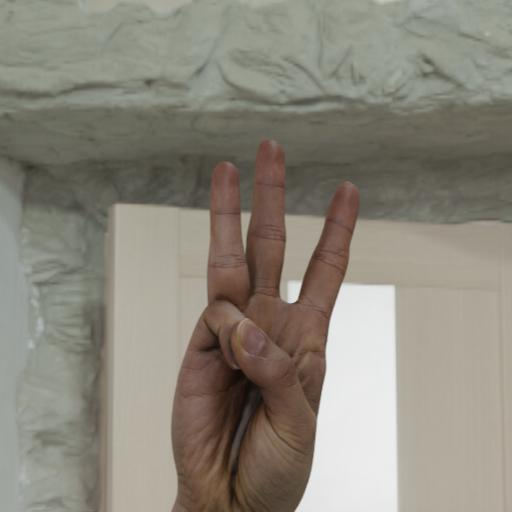W: (168, 139, 365, 512)
